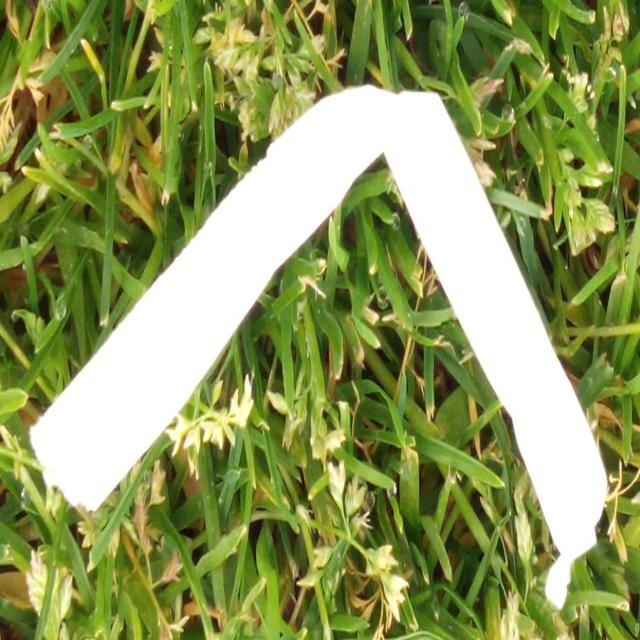litter: (29, 85, 607, 609)
